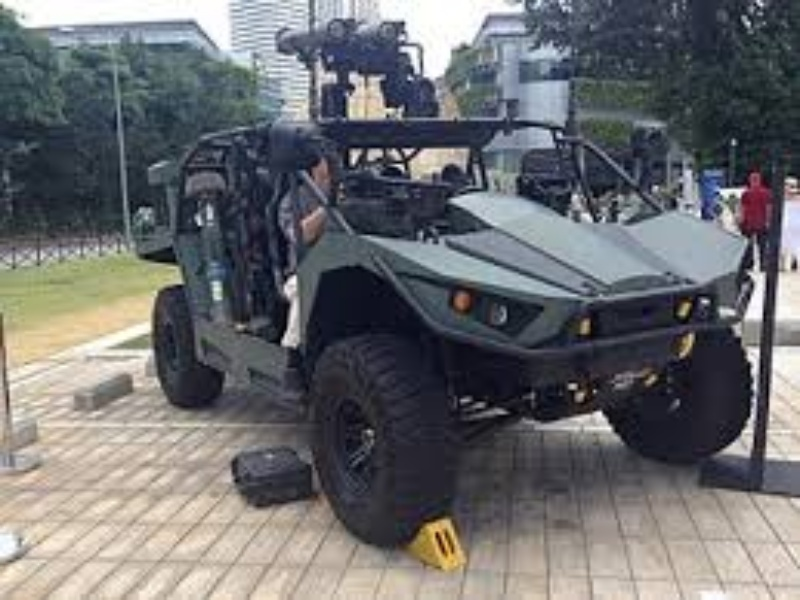jeep: (130, 16, 757, 550)
